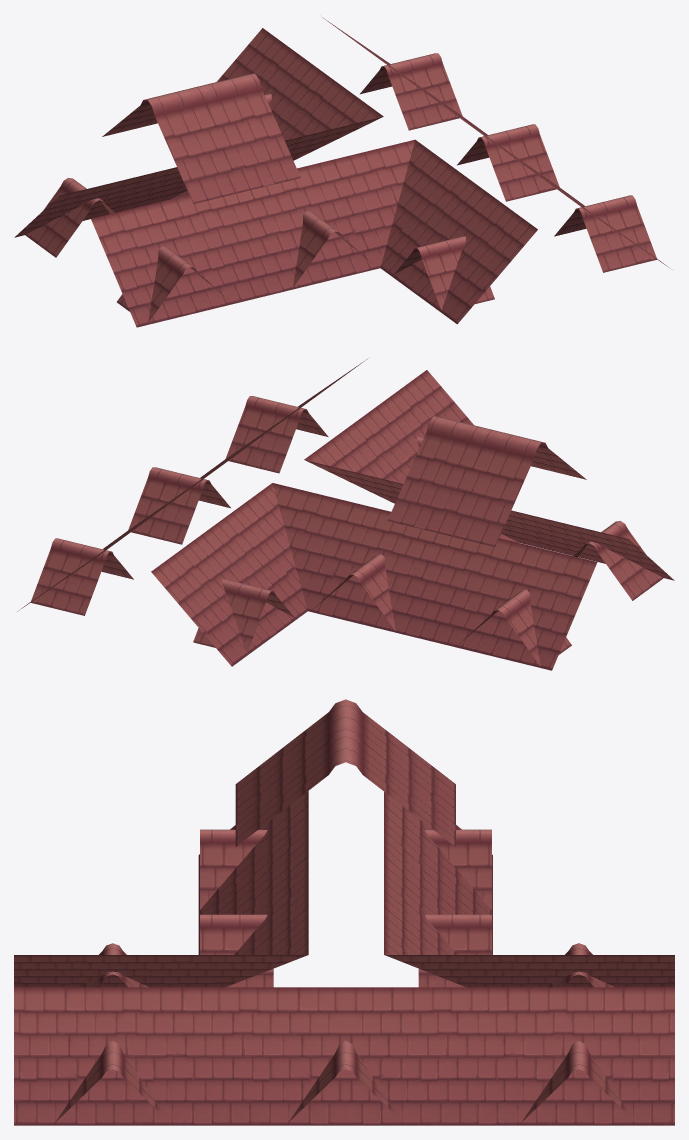
File: scene_luoliante_lvguan_02.FBX
The picture shows the model from 3 angles, top to bottom: view 1: azimuth 30°, elevation 25°; view 2: azimuth 150°, elevation 25°; view 3: azimuth 270°, elevation 25°; orthographic projection. The views are drawn at different scales.
Visible parts, largest first — view 1: scene_luoliante_lvguan_02; view 2: scene_luoliante_lvguan_02; view 3: scene_luoliante_lvguan_02.
Boxes of the visible parts, x1,y1,x2,y2 form: scene_luoliante_lvguan_02: (14,17,670,327); scene_luoliante_lvguan_02: (17,359,674,670); scene_luoliante_lvguan_02: (14,699,674,1125).
Size of the model in its own units: 743 by 255 by 769.
